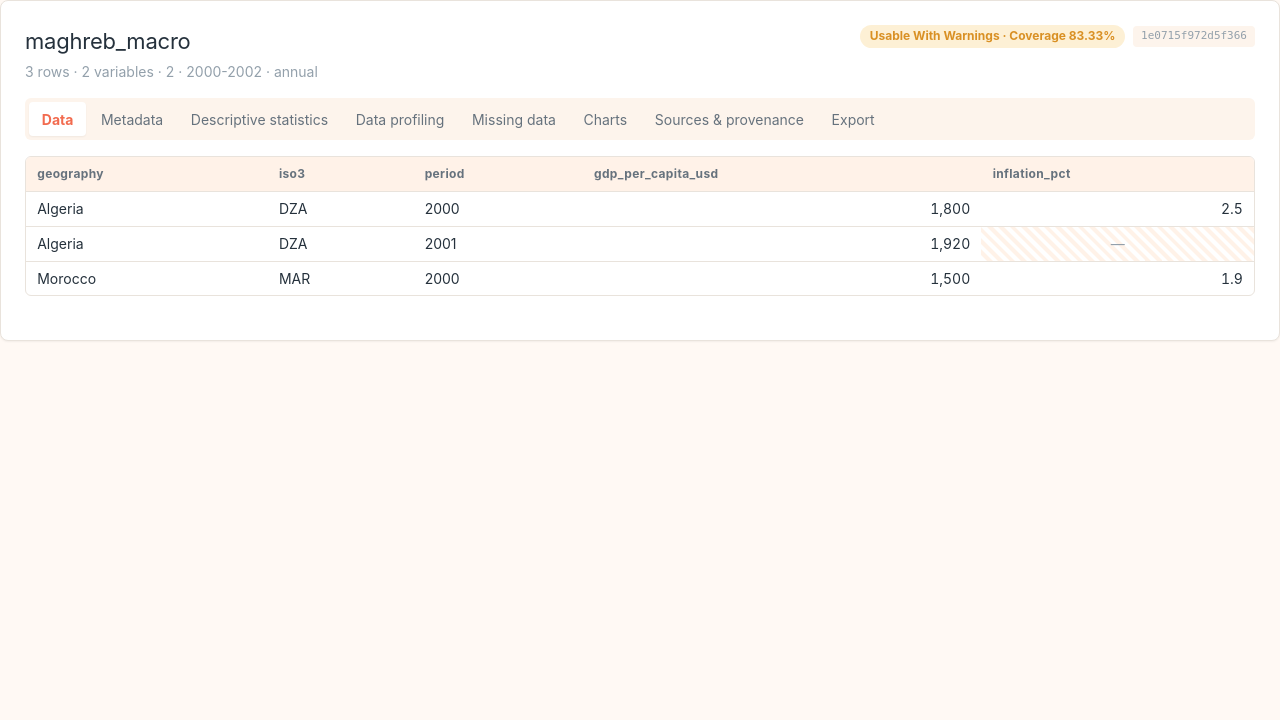
Test case: DatasetWorkspace › explains that a chart line breaks at a gap
Expected: the heading "maghreb_macro" is shown, [25,28,191,54]
Click the tab "Charts" at (605, 119), box [571,102,640,136]
(page scrolled)
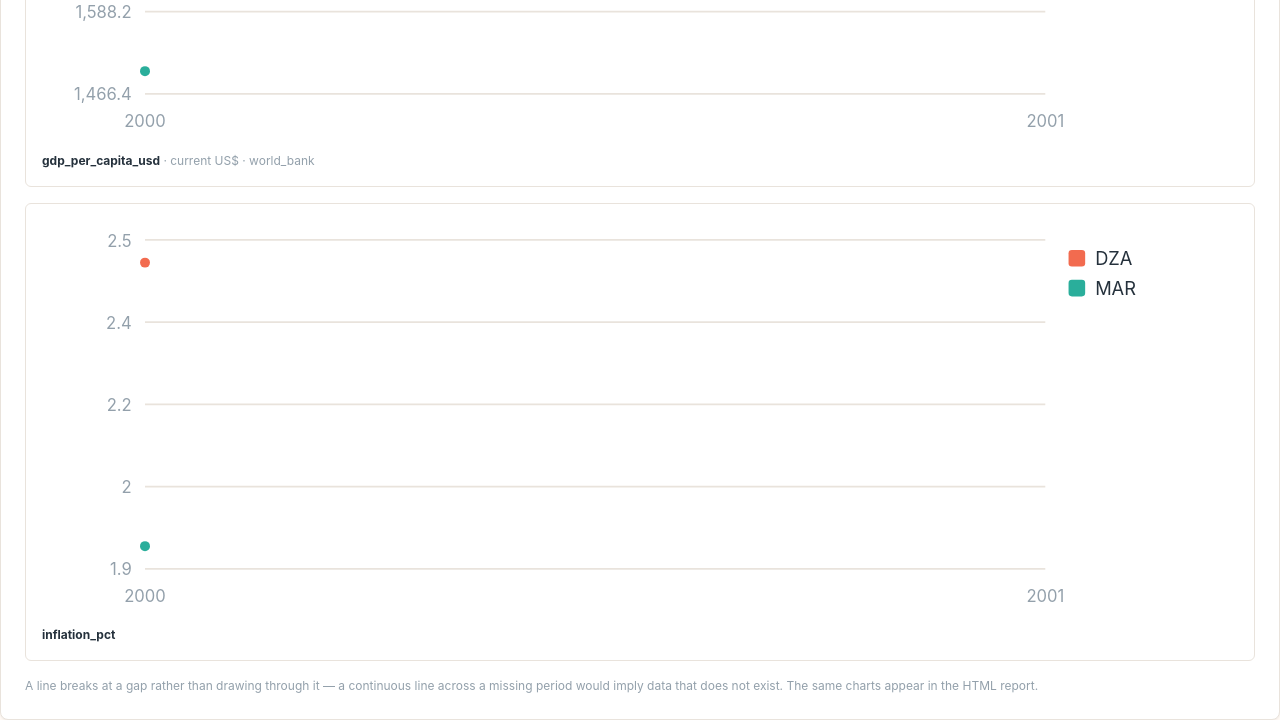
Now the text "breaks at a gap" is shown, box [25,678,1038,693]
